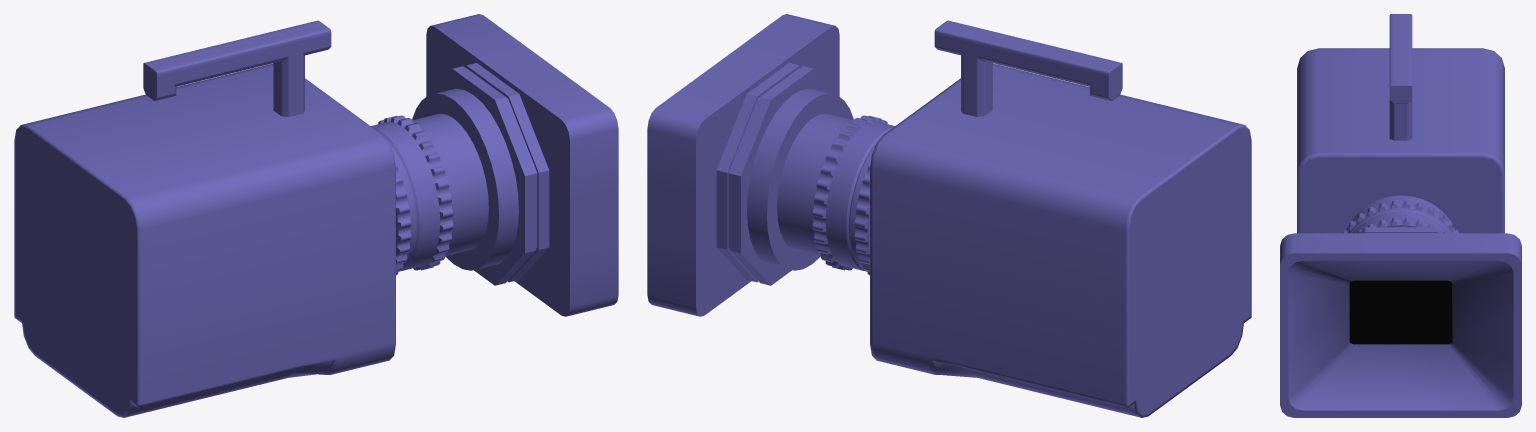
File: intro_camera.glb
3 views of the same model, side by side, from view 1: azimuth 30°, elevation 25°; view 2: azimuth 150°, elevation 25°; view 3: azimuth 270°, elevation 25° (orthographic). The views are drawn at different scales.
Visible parts, largest first — view 1: intro_camera; view 2: intro_camera; view 3: intro_camera.
Part boxes in pixels (x1,y1,x2,y2): intro_camera: (14,14,618,417); intro_camera: (647,14,1251,417); intro_camera: (1280,14,1521,417).
Size of the model in its own units: 0.7155 by 0.4371 by 0.3785.
